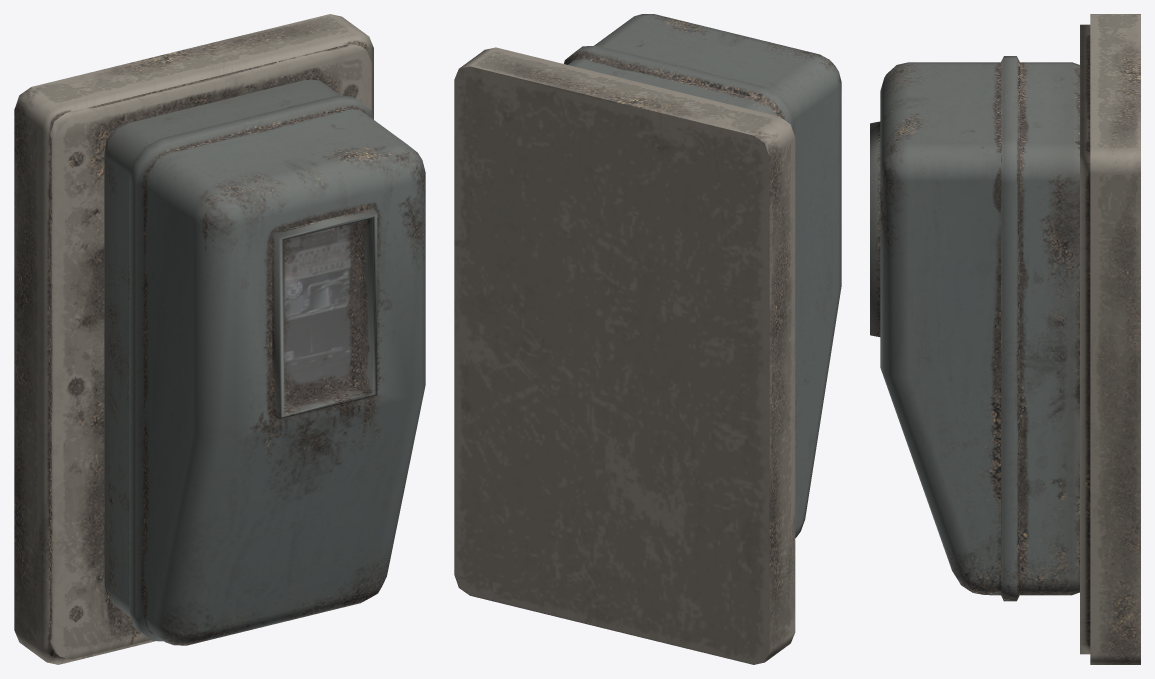
Rendered from MeterEquipment_B.fbx.
3 views of the same model, side by side, from view 1: azimuth 30°, elevation 25°; view 2: azimuth 150°, elevation 25°; view 3: azimuth 270°, elevation 25° (orthographic). The views are drawn at different scales.
Visible parts, largest first — view 1: MeterEquipment_B; view 2: MeterEquipment_B; view 3: MeterEquipment_B.
Part boxes in pixels (x1,y1,x2,y2): MeterEquipment_B: [14, 14, 425, 664]; MeterEquipment_B: [454, 14, 841, 664]; MeterEquipment_B: [870, 14, 1140, 664].
Bounding box in the file's own units: 23.89 × 38.32 × 18.24.
1 material, 1 textured.
